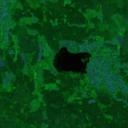alloviz: (52, 45, 92, 75)
